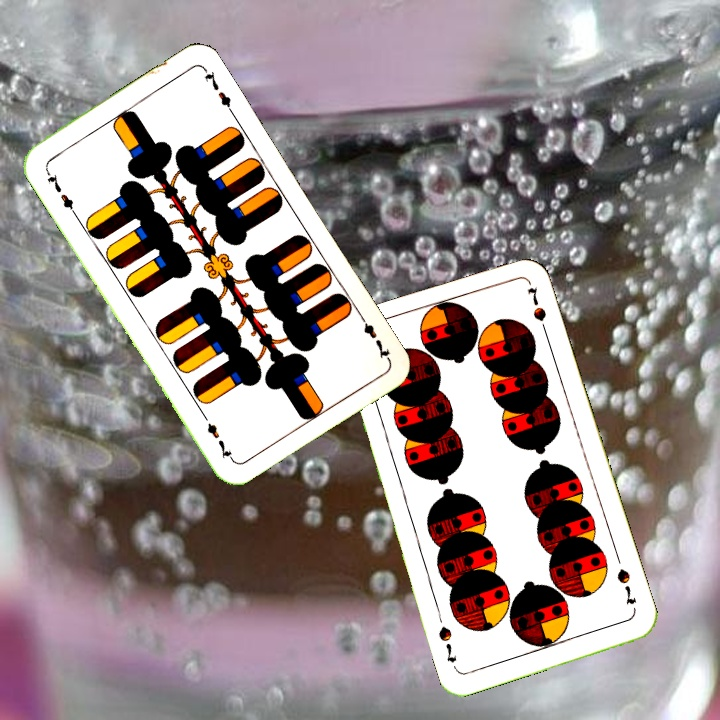E7: (41, 165, 79, 218), (355, 309, 393, 362)
S7: (613, 564, 639, 607)
